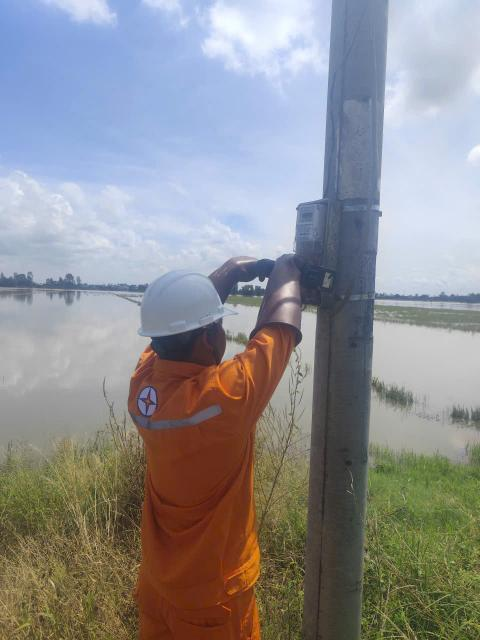gloves: (248, 248, 317, 337), (187, 237, 271, 303)
helmet: (121, 260, 244, 348)
